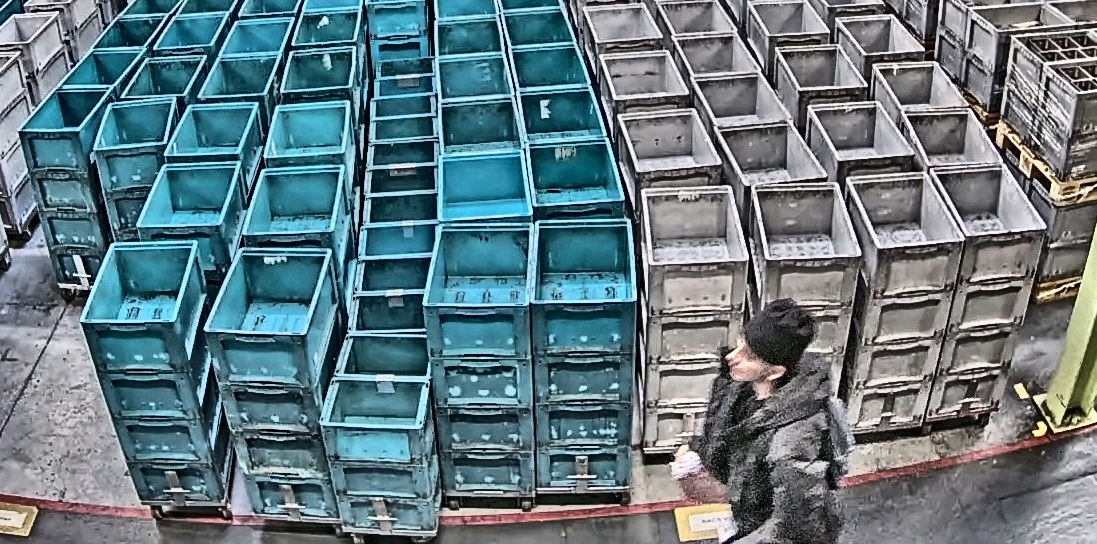4G: (923, 161, 1049, 426), (841, 171, 965, 435), (640, 183, 751, 453), (746, 181, 863, 407)
B4: (78, 239, 234, 503), (203, 246, 339, 523), (419, 221, 536, 500), (528, 219, 639, 492), (92, 96, 177, 241)
B8: (318, 333, 444, 533)
